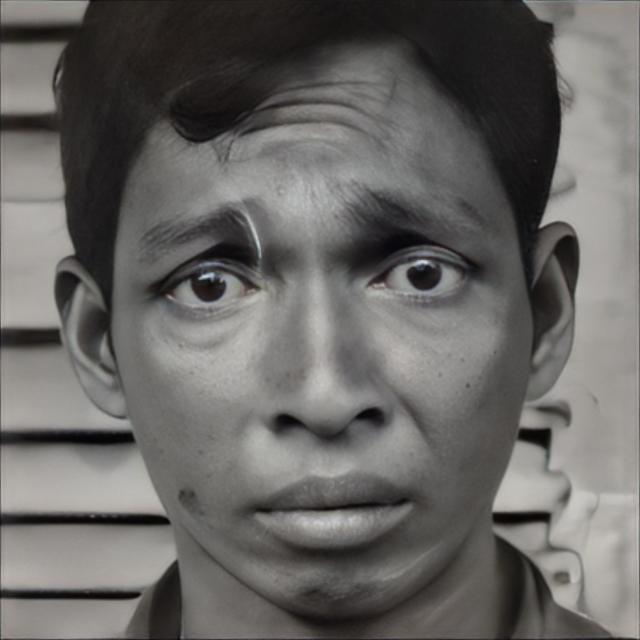sad: (114, 85, 530, 618)
